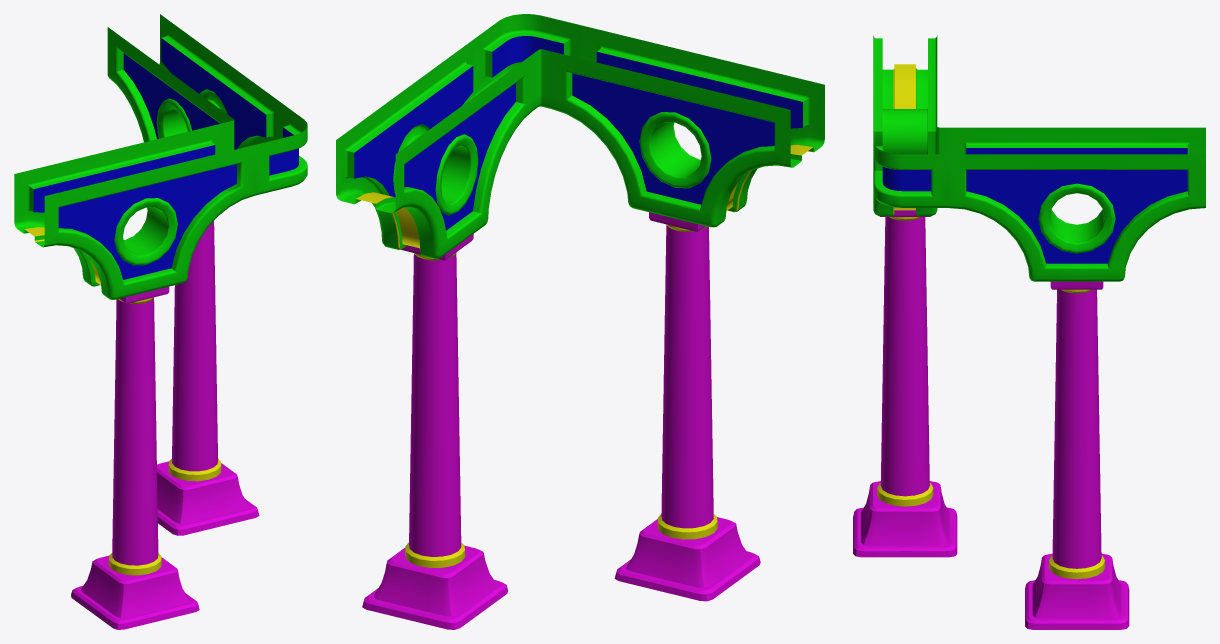
Rendered from Pillar02_Corner.fbx.
The picture shows the model from 3 angles, left to right: view 1: azimuth 30°, elevation 25°; view 2: azimuth 150°, elevation 25°; view 3: azimuth 270°, elevation 25°; orthographic projection. The views are drawn at different scales.
Visible parts, largest first — view 1: pCube88; view 2: pCube88; view 3: pCube88.
Boxes of the visible parts, bbox=[...] form: pCube88: bbox=[14, 14, 307, 629]; pCube88: bbox=[336, 14, 824, 629]; pCube88: bbox=[853, 35, 1205, 629].
Bounding box in the file's own units: 411 × 600 × 411.
